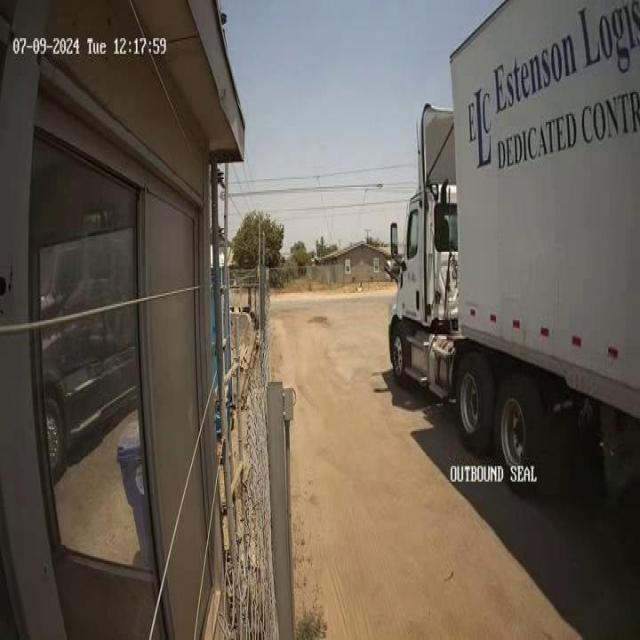TRUCK_CONTAINER: (385, 1, 639, 497)
